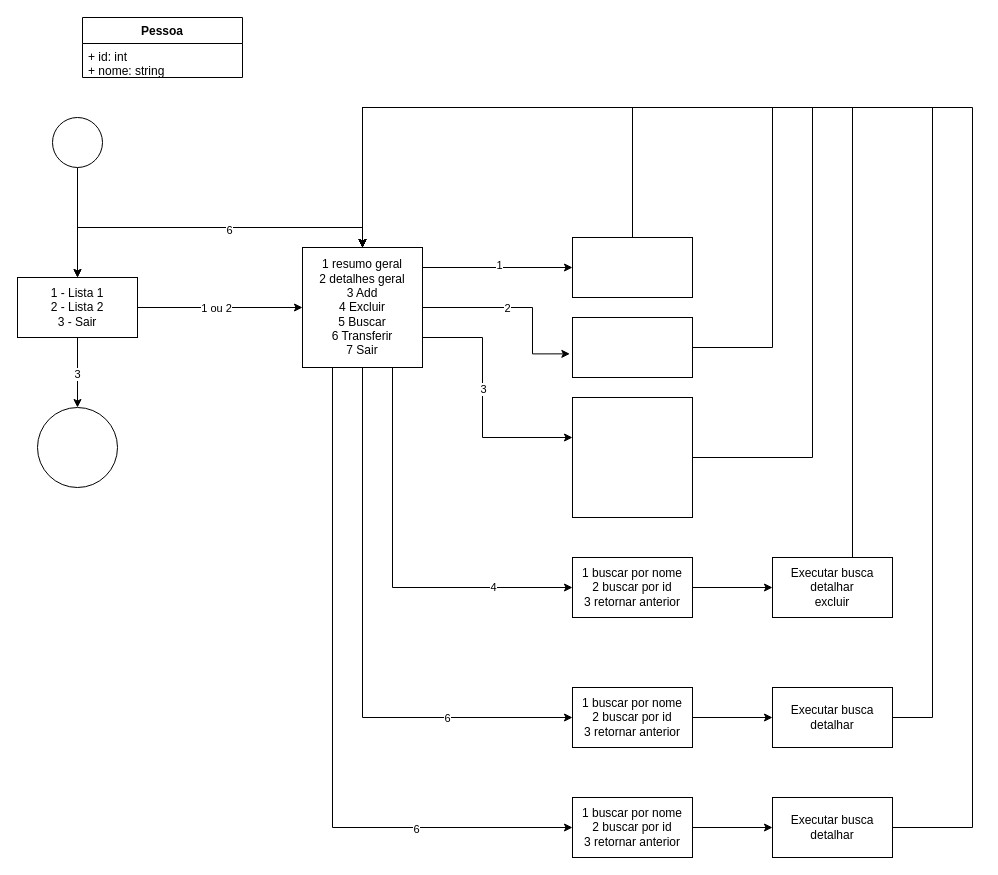
The diagram is 998 pixels wide and 875 high, and some of its shapes have lost their labels. Each missing label, with the centre of its shape:
"fim" goes at (77,447).
"Imprimir detalhes geral" goes at (632,347).
"Imprimir resumo geral" goes at (632,267).
"Início" goes at (77,142).
"Receber tudo pedir confirmação mostrar resultado" goes at (632,457).
